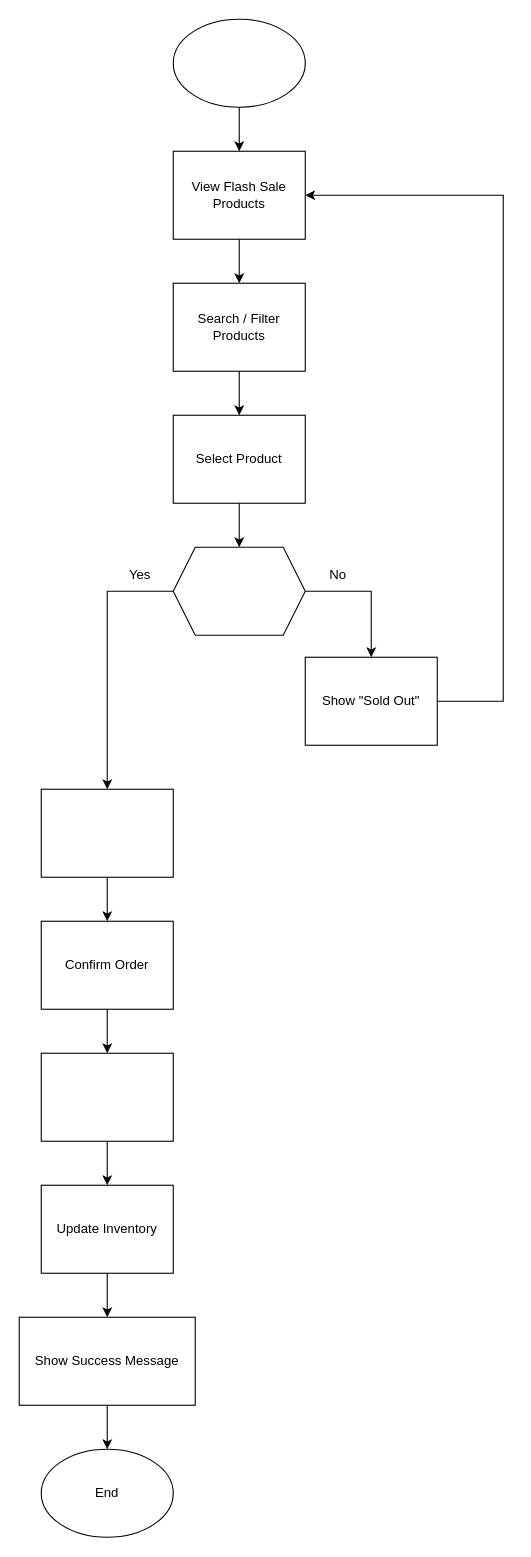
This 531x1557 diagram has some shape labels left out. Each missing label, with the centre of its shape:
"Create Order" goes at point (106, 1096).
"Enter Quantity" goes at point (106, 832).
"Is stock available?" goes at point (238, 590).
"Start" goes at point (238, 62).
